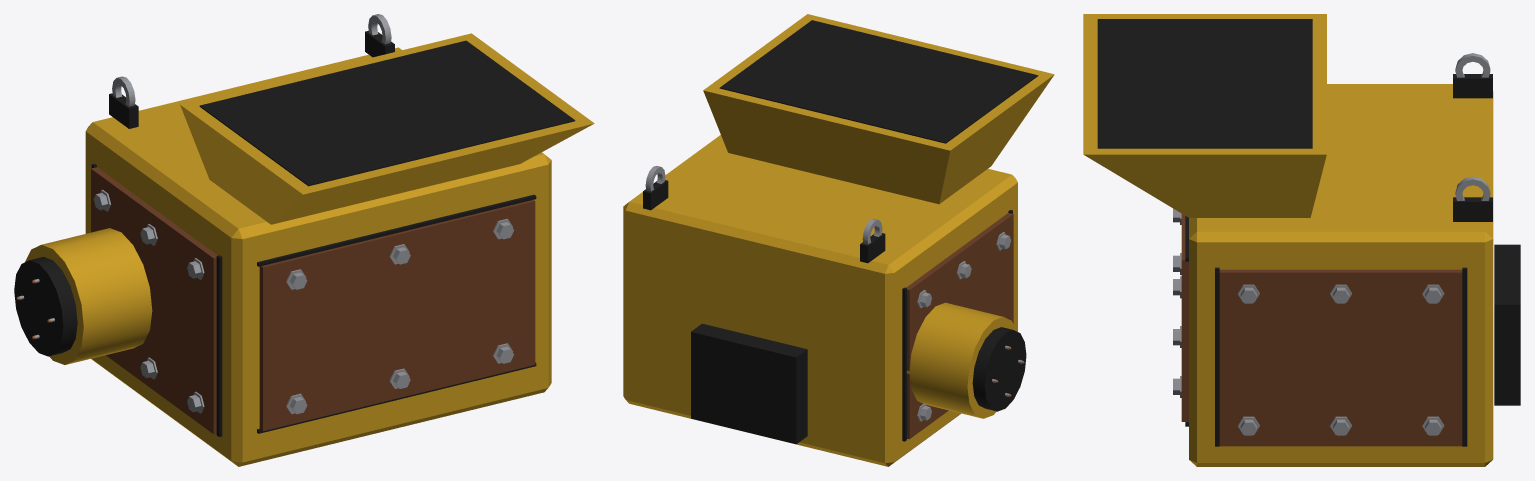
The model's file is mk1_crusher.obj.
3 views of the same model, side by side, from view 1: azimuth 30°, elevation 25°; view 2: azimuth 150°, elevation 25°; view 3: azimuth 270°, elevation 25° (orthographic). The views are drawn at different scales.
Visible parts, largest first — view 1: mk1_crusher; view 2: mk1_crusher; view 3: mk1_crusher.
Boxes of the visible parts, left/top/right/bottom form: mk1_crusher: left=14, top=14, right=594, bottom=466; mk1_crusher: left=623, top=14, right=1054, bottom=466; mk1_crusher: left=1083, top=14, right=1520, bottom=466.
Size of the model in its own units: 2.42 by 1.69 by 2.16.
